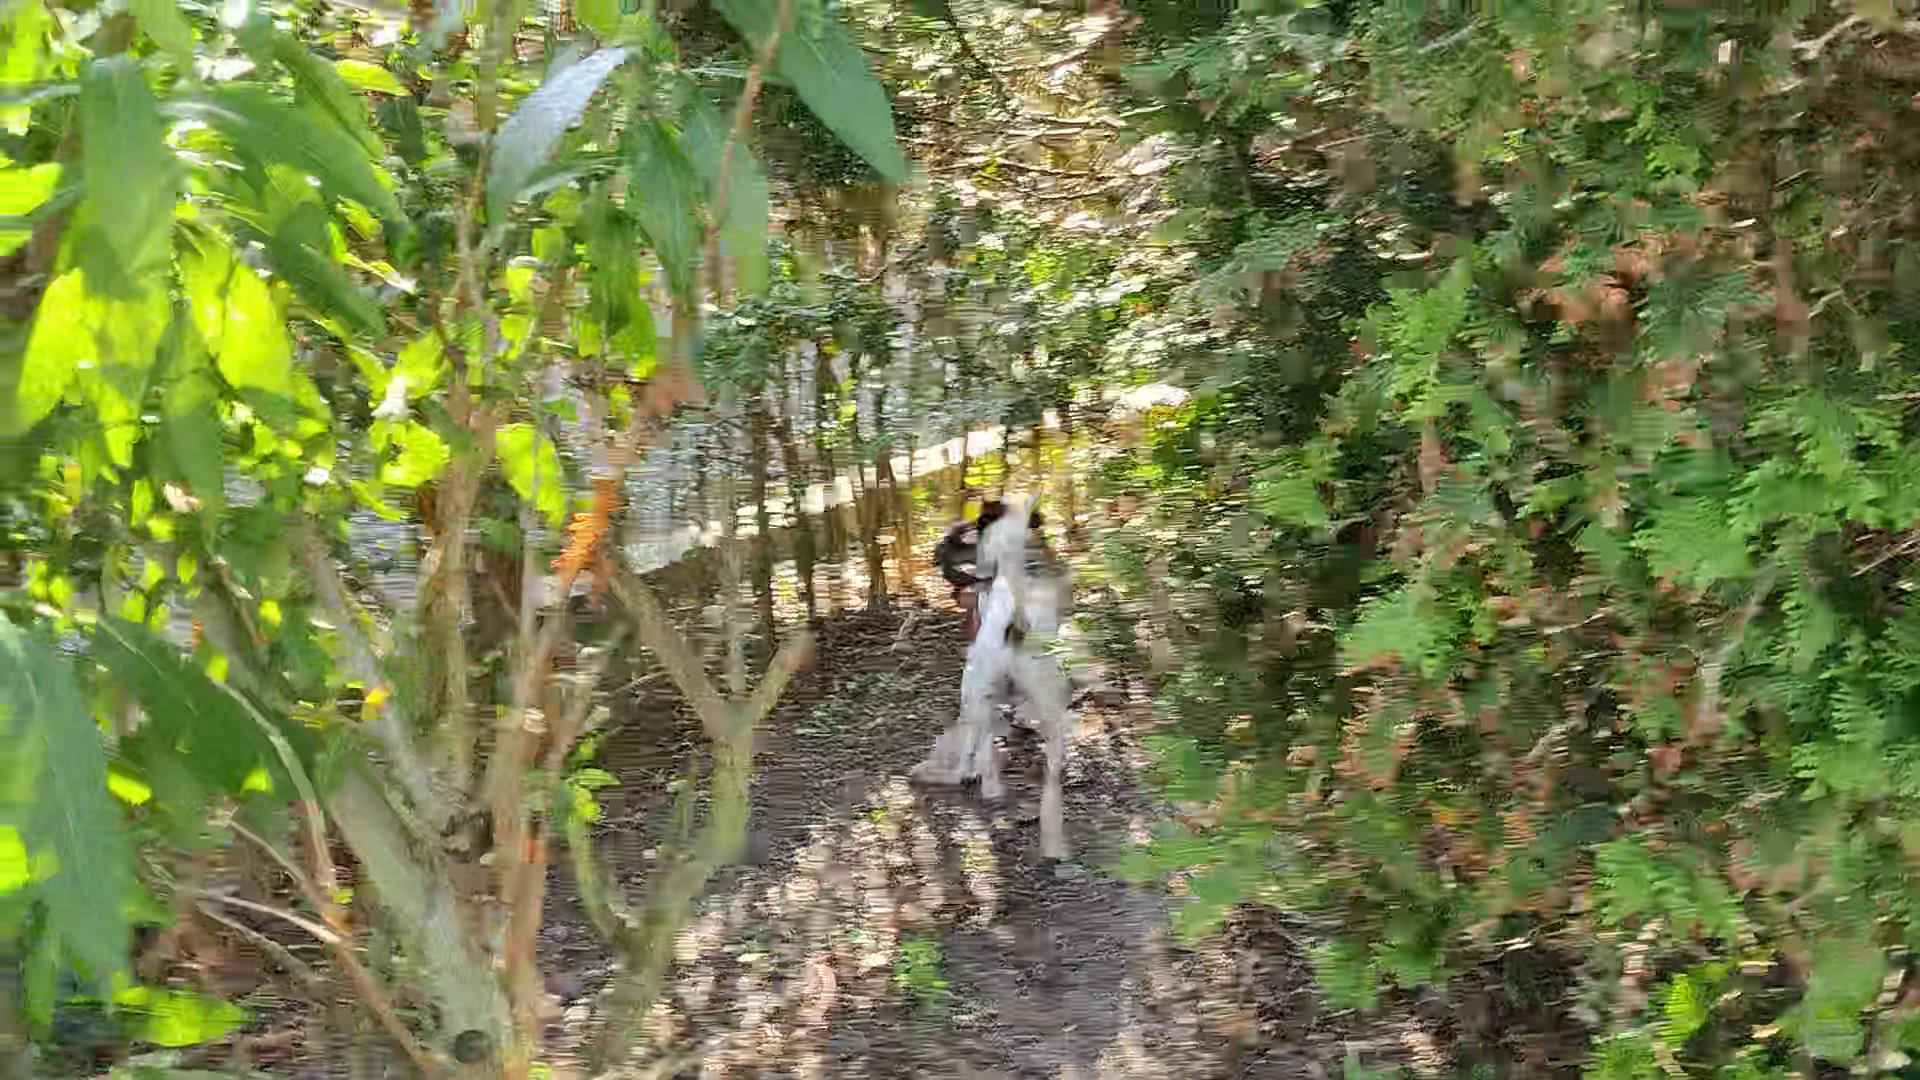Dog: (915, 477, 1114, 885)
